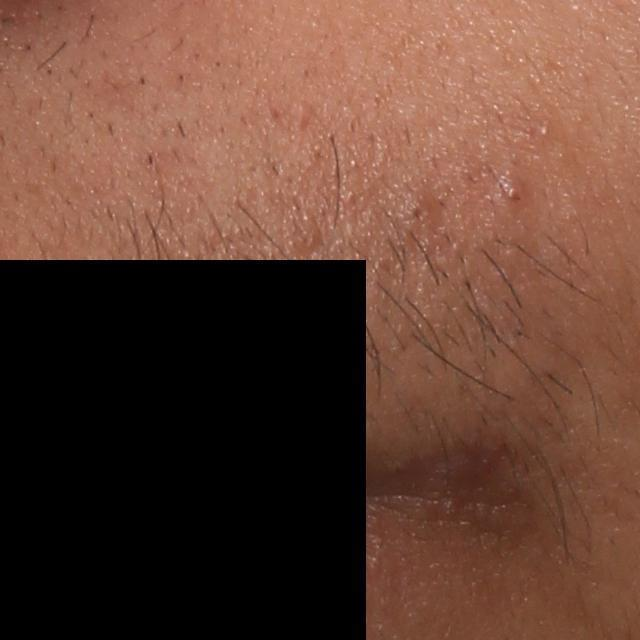atrophic_scar: (399, 449, 531, 542)
comedo: (408, 201, 429, 224)
